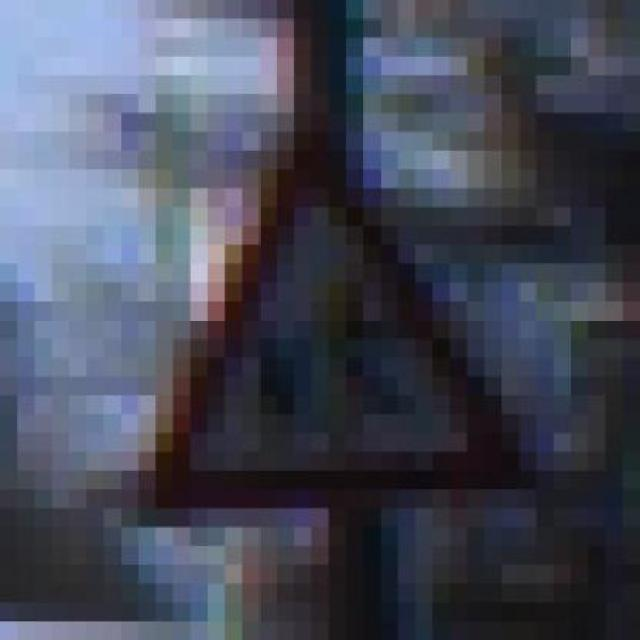Beware of children: (103, 131, 554, 527)
